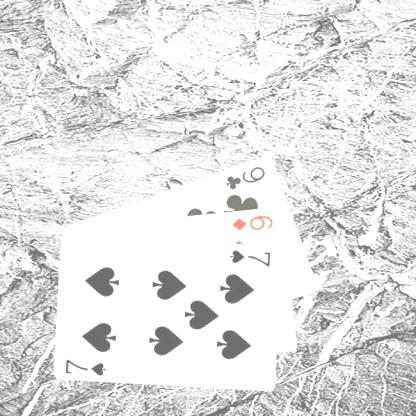6D: (229, 212, 275, 232)
7S: (227, 247, 273, 268), (62, 356, 108, 377)
9C: (223, 162, 267, 192)
